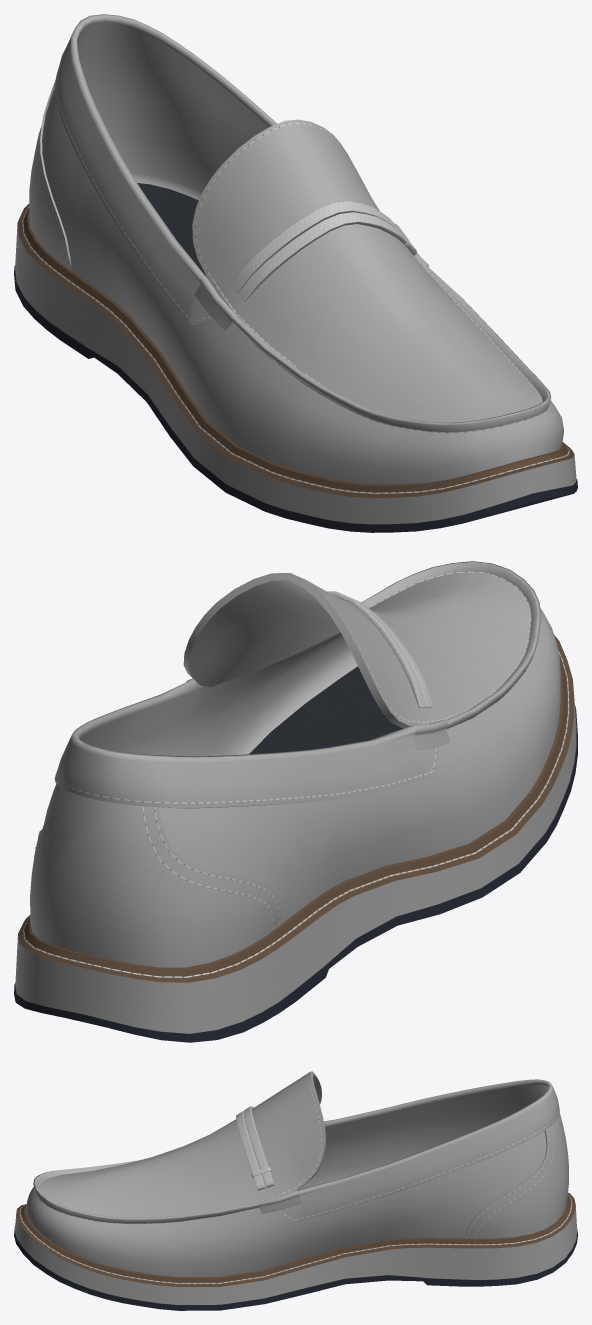
The model's file is Mocasin_Der.glb.
3 views of the same model, one above another, from view 1: azimuth 30°, elevation 25°; view 2: azimuth 150°, elevation 25°; view 3: azimuth 270°, elevation 25° (orthographic). The views are drawn at different scales.
Parts seen in each view (by area): view 1: mocasin_Modeling_v0003:Cuero_GEO, mocasin_Modeling_v0003:Suela_2_GEO, mocasin_Modeling_v0003:Suela_3_GEO, mocasin_Modeling_v0003:Suela_1_GEO, mocasin_Modeling_v0003:Tela_GEO, mocasin_Modeling_v0003:Stitches_GEO, mocasin_Modeling_v0003:Plantilla_GEO; view 2: mocasin_Modeling_v0003:Cuero_GEO, mocasin_Modeling_v0003:Suela_2_GEO, mocasin_Modeling_v0003:Suela_3_GEO, mocasin_Modeling_v0003:Plantilla_GEO, mocasin_Modeling_v0003:Suela_1_GEO, mocasin_Modeling_v0003:Stitches_GEO, mocasin_Modeling_v0003:Tela_GEO; view 3: mocasin_Modeling_v0003:Cuero_GEO, mocasin_Modeling_v0003:Suela_2_GEO, mocasin_Modeling_v0003:Suela_3_GEO, mocasin_Modeling_v0003:Suela_1_GEO, mocasin_Modeling_v0003:Stitches_GEO, mocasin_Modeling_v0003:Tela_GEO.
Part boxes in pixels (x1,y1,x2,y2): mocasin_Modeling_v0003:Cuero_GEO: [29, 14, 563, 484]; mocasin_Modeling_v0003:Suela_2_GEO: [15, 223, 576, 524]; mocasin_Modeling_v0003:Suela_3_GEO: [17, 203, 574, 498]; mocasin_Modeling_v0003:Suela_1_GEO: [14, 265, 577, 532]; mocasin_Modeling_v0003:Tela_GEO: [231, 201, 416, 301]; mocasin_Modeling_v0003:Stitches_GEO: [22, 72, 569, 493]; mocasin_Modeling_v0003:Plantilla_GEO: [137, 183, 207, 278]; mocasin_Modeling_v0003:Cuero_GEO: [30, 561, 560, 967]; mocasin_Modeling_v0003:Suela_2_GEO: [15, 682, 576, 1033]; mocasin_Modeling_v0003:Suela_3_GEO: [18, 635, 573, 982]; mocasin_Modeling_v0003:Plantilla_GEO: [249, 666, 402, 754]; mocasin_Modeling_v0003:Suela_1_GEO: [14, 705, 577, 1042]; mocasin_Modeling_v0003:Stitches_GEO: [23, 571, 568, 977]; mocasin_Modeling_v0003:Tela_GEO: [327, 591, 433, 707]; mocasin_Modeling_v0003:Cuero_GEO: [25, 1071, 568, 1276]; mocasin_Modeling_v0003:Suela_2_GEO: [15, 1206, 577, 1304]; mocasin_Modeling_v0003:Suela_3_GEO: [16, 1192, 575, 1286]; mocasin_Modeling_v0003:Suela_1_GEO: [14, 1225, 577, 1310]; mocasin_Modeling_v0003:Stitches_GEO: [19, 1073, 572, 1283]; mocasin_Modeling_v0003:Tela_GEO: [236, 1106, 274, 1190].
Bounding box in the file's own units: 0.1477 × 0.1511 × 0.4001.
7 materials, 7 textured.
